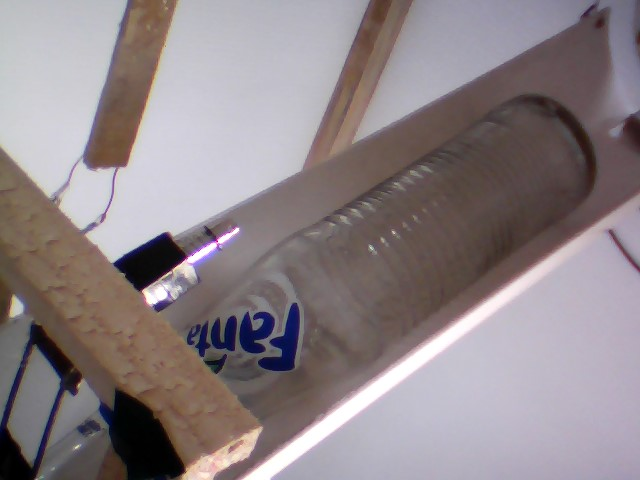vidrio: (172, 90, 602, 417)
